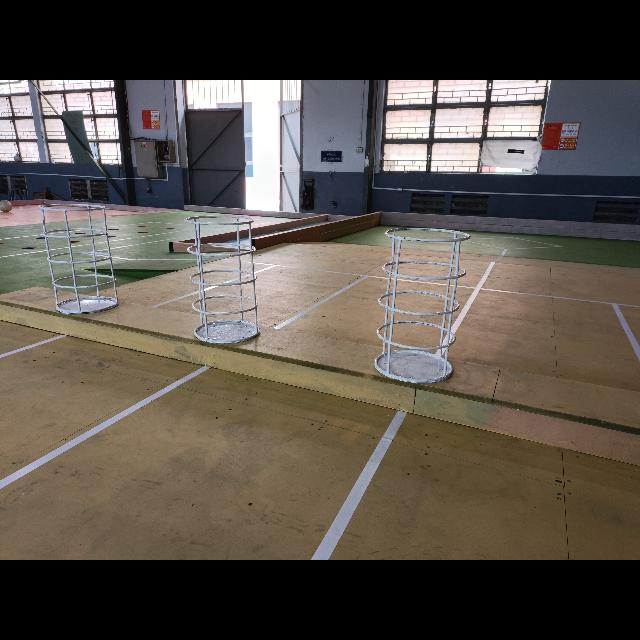S: (375, 226, 469, 381), (187, 215, 261, 344), (42, 206, 117, 314)
